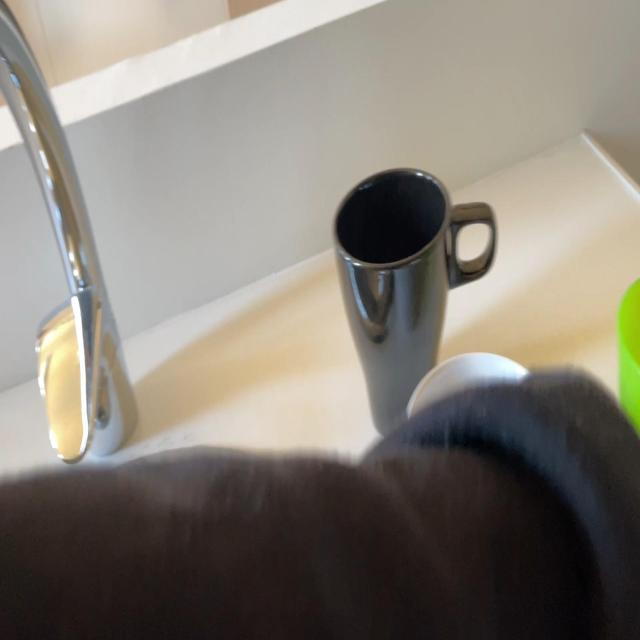cup: (329, 164, 503, 433)
